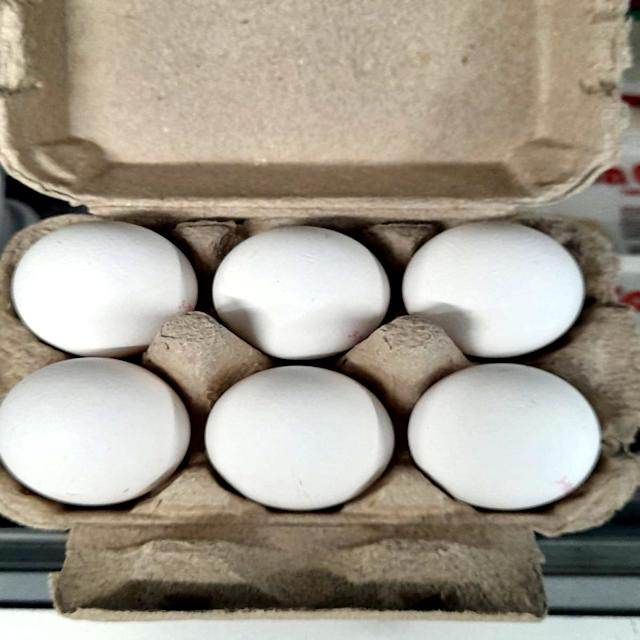egg: (190, 348, 394, 524), (403, 346, 609, 517), (1, 349, 195, 521), (404, 206, 608, 356), (9, 207, 206, 360), (203, 210, 404, 351)
